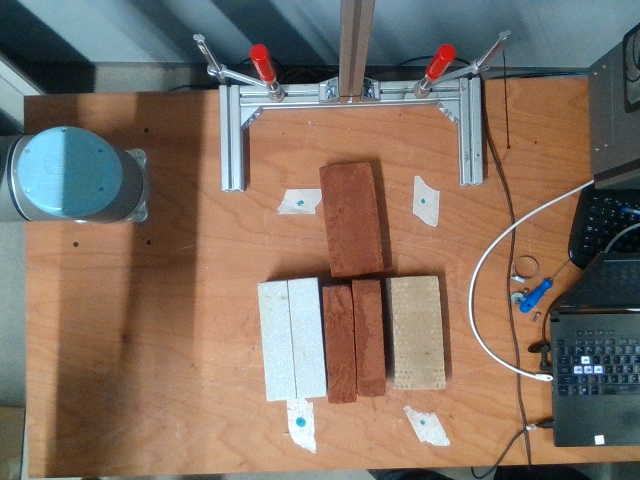brick: (322, 163, 383, 279), (391, 277, 446, 391)
brick-side: (257, 280, 298, 400), (287, 279, 327, 399), (353, 279, 386, 396), (323, 286, 356, 403)
